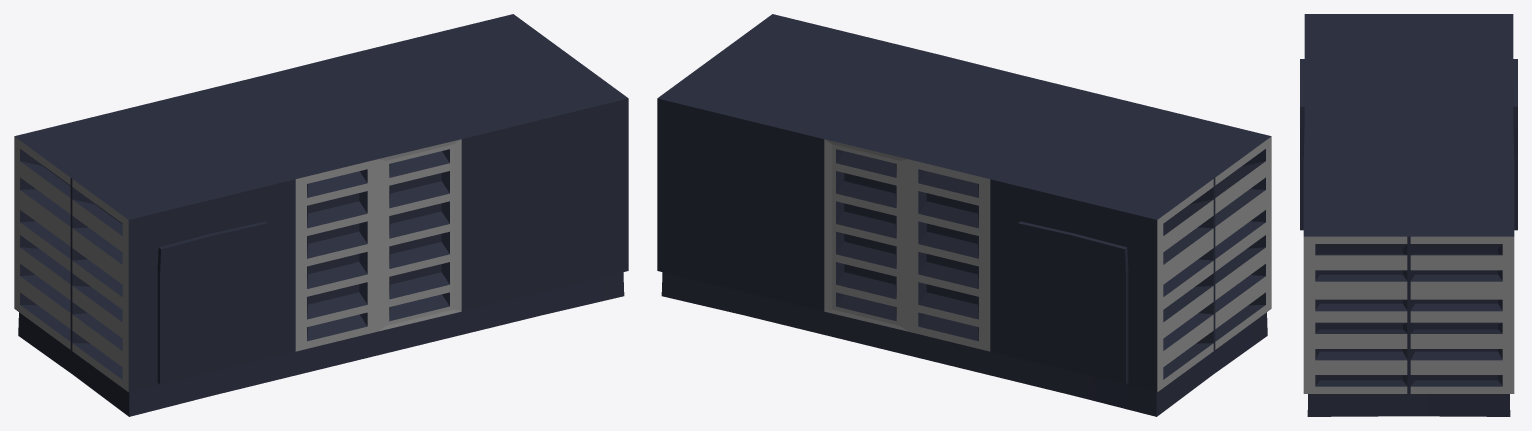
The model's file is Generator_Box.FBX.
The picture shows the model from 3 angles, left to right: view 1: azimuth 30°, elevation 25°; view 2: azimuth 150°, elevation 25°; view 3: azimuth 270°, elevation 25°; orthographic projection. The views are drawn at different scales.
Parts seen in each view (by area): view 1: Generator_box; view 2: Generator_box; view 3: Generator_box.
Boxes of the visible parts, x1=… form: Generator_box: x1=14, y1=14, x2=628, y2=416; Generator_box: x1=657, y1=14, x2=1271, y2=416; Generator_box: x1=1300, y1=14, x2=1517, y2=416.
Bounding box in the file's own units: 1193 × 454 × 494.
